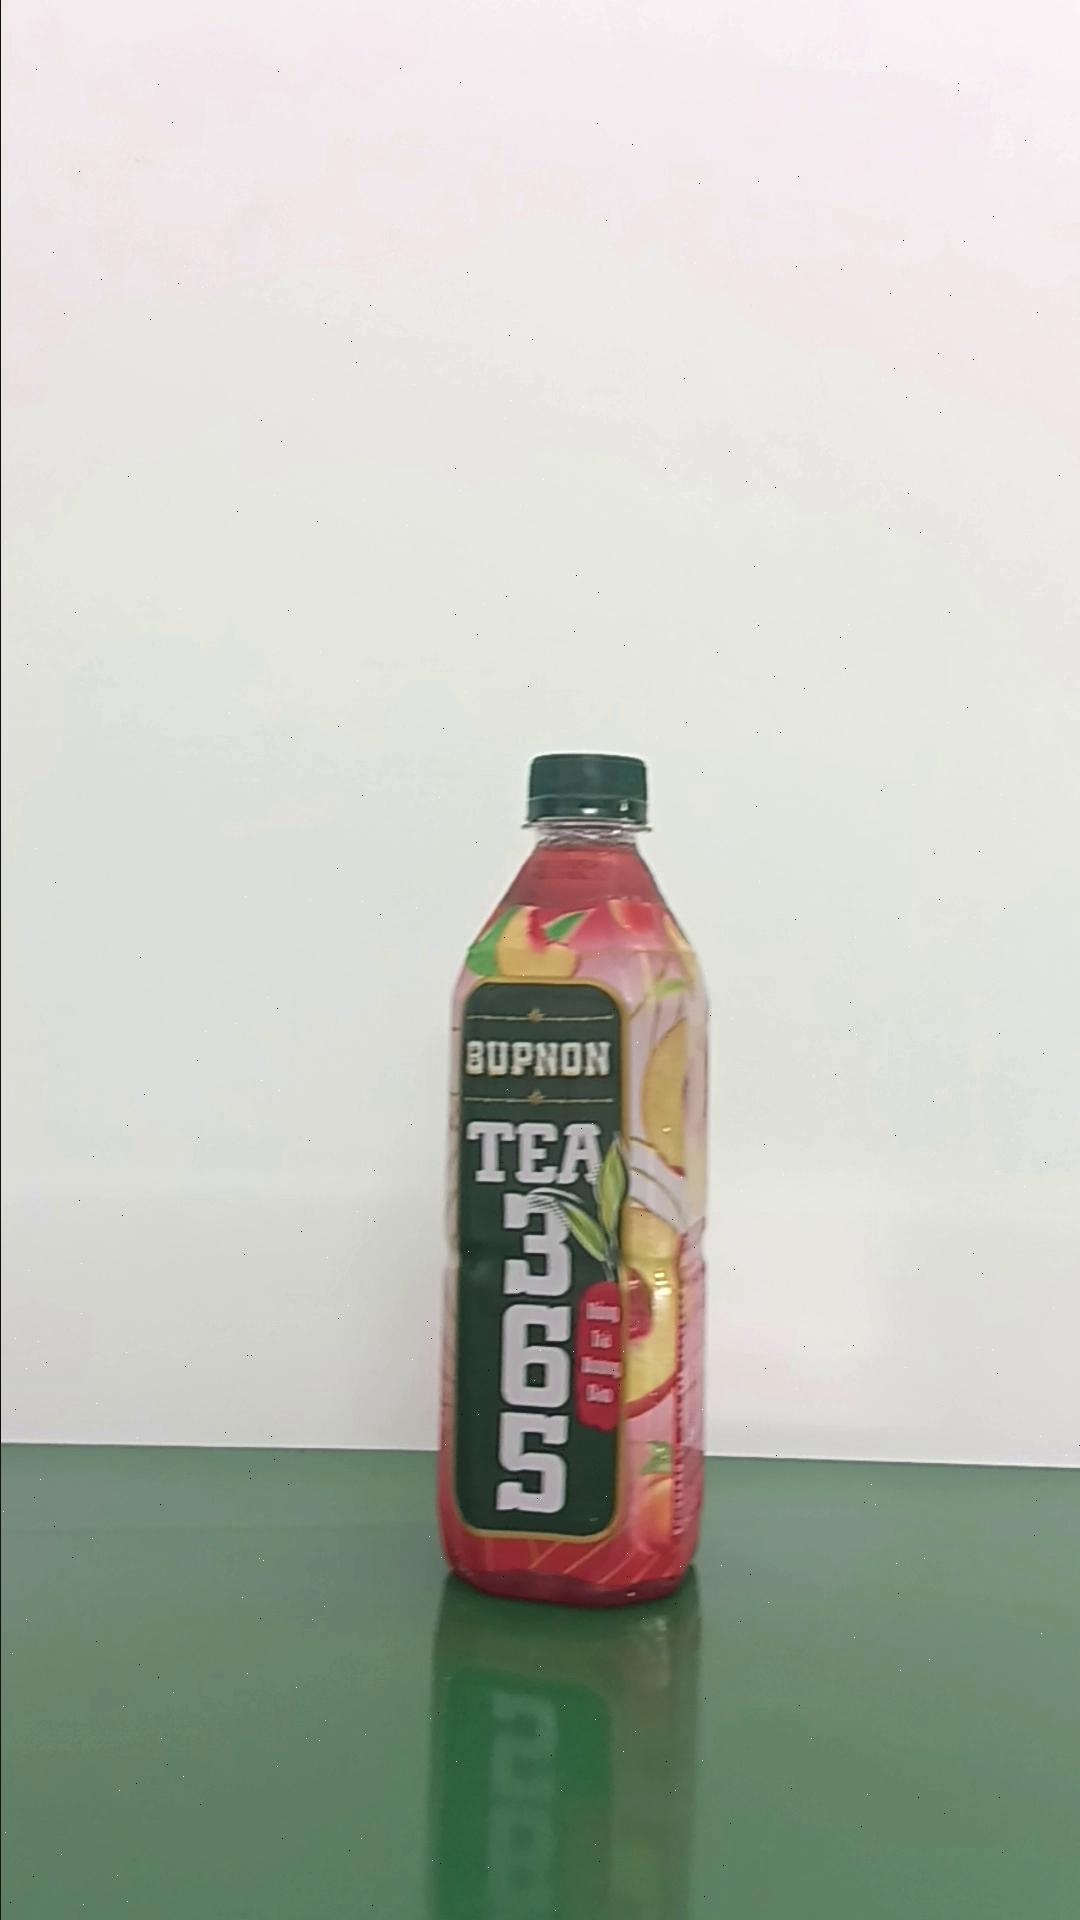khong loi: (433, 750, 711, 1607)
